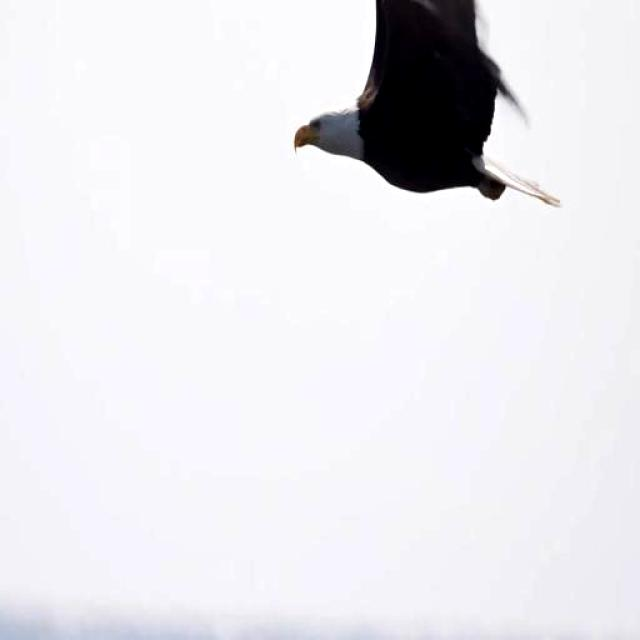airplane: (278, 0, 571, 254)
